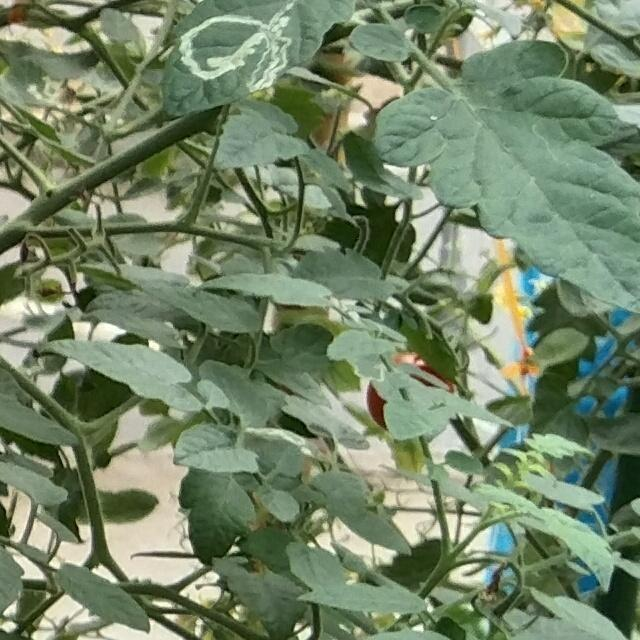Healthy: (369, 34, 640, 318), (42, 336, 204, 414), (179, 469, 258, 566), (54, 561, 151, 634), (212, 106, 311, 174), (173, 422, 260, 474), (348, 21, 411, 64)
Leaf_Miner: (154, 0, 359, 120)
